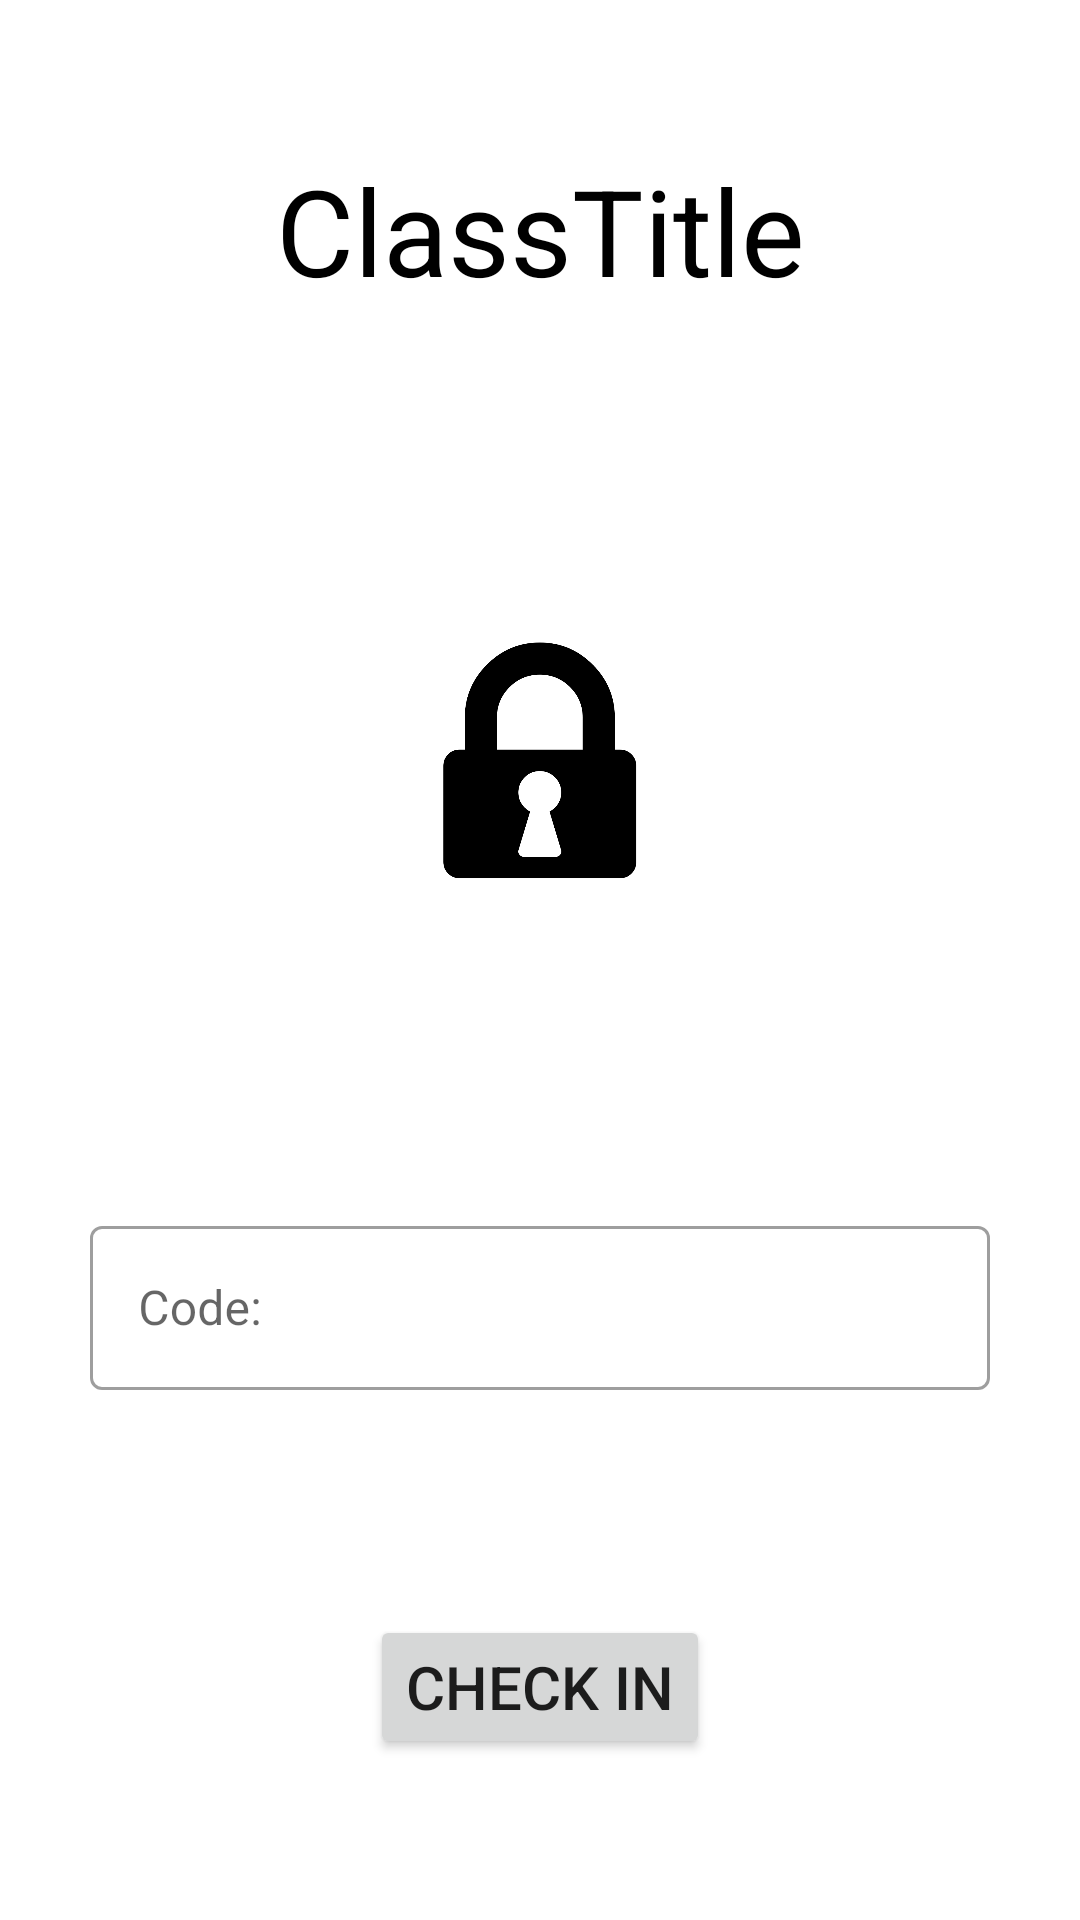

Icon click points for this 1080w x 1920h phone screenshot, format (x,y):
lock: (539,760)
